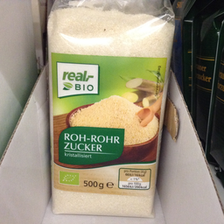tomato_sauce: (46, 5, 174, 218)
